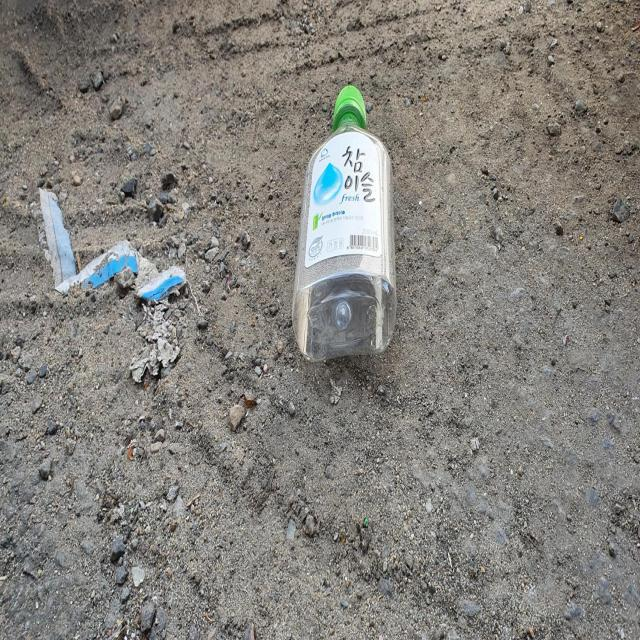plastic: (292, 85, 397, 360)
